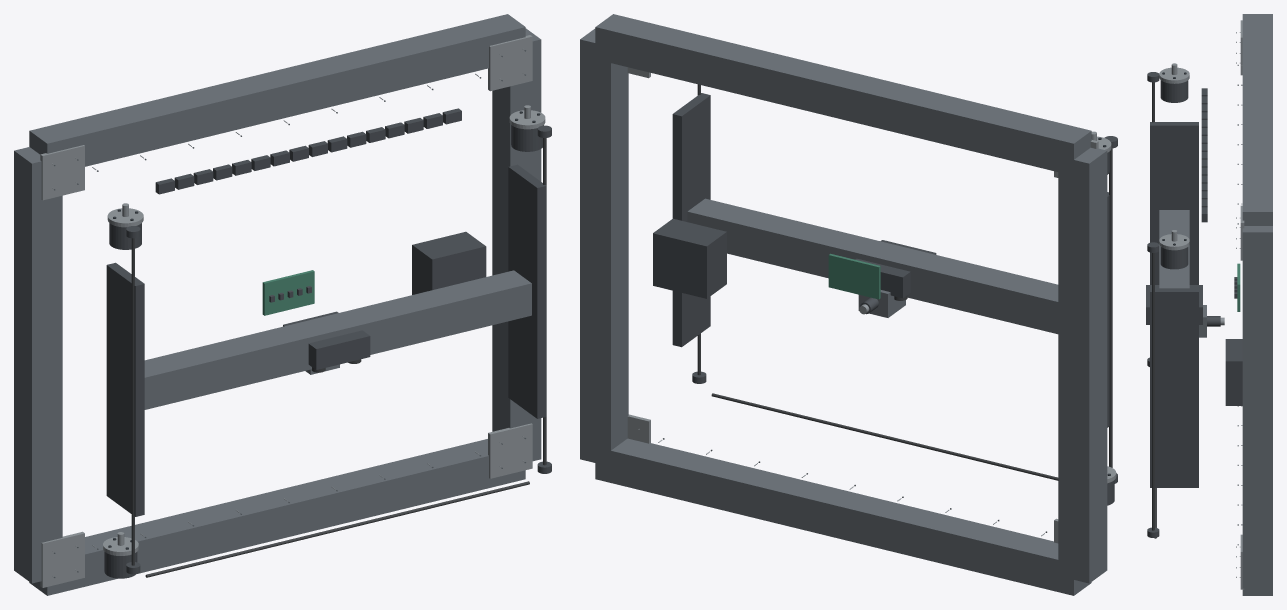
Rendered from laser-diode-10w.glb.
3 renders of one model, left to right at view 1: azimuth 30°, elevation 25°; view 2: azimuth 150°, elevation 25°; view 3: azimuth 270°, elevation 25°, orthographic. The views are drawn at different scales.
Visible parts, largest first — view 1: 0005_Y_aluminum_profile, 0001_Y_aluminum_profile, 0009_X_end_cross_profile, 0069_X_gantry_extrusion, 0073_Gantry_end_plate, 0081_Gantry_end_plate, 0013_X_end_cross_profile, 0126_Controller_cover, 0043_Corner_bracket, 0017_Corner_bracket, 0056_Corner_bracket, 0030_Corner_bracket (+4 smaller); view 2: 0005_Y_aluminum_profile, 0001_Y_aluminum_profile, 0009_X_end_cross_profile, 0013_X_end_cross_profile, 0069_X_gantry_extrusion, 0081_Gantry_end_plate, 0126_Controller_cover, 0120_Laser_driver_PCB, 0102_X_timing_belt, 0089_Y_timing_belt, 0103_Laser_carriage_plate, 0073_Gantry_end_plate; view 3: 0013_X_end_cross_profile, 0081_Gantry_end_plate, 0005_Y_aluminum_profile, 0073_Gantry_end_plate, 0069_X_gantry_extrusion, 0126_Controller_cover, 0092_Y_timing_belt, 0082_Y_stepper_motor_motor_body, 0074_Y_stepper_motor_motor_body, 0075_Y_stepper_motor_front_flange, 0083_Y_stepper_motor_front_flange, 0103_Laser_carriage_plate (+2 smaller).
Part boxes in pixels (box(x1,y1,x2,y2)): 0005_Y_aluminum_profile: box(29, 14, 525, 166); 0001_Y_aluminum_profile: box(29, 439, 525, 595); 0009_X_end_cross_profile: box(14, 147, 62, 583); 0069_X_gantry_extrusion: box(144, 270, 531, 409); 0073_Gantry_end_plate: box(106, 262, 144, 516); 0081_Gantry_end_plate: box(508, 164, 546, 418); 0013_X_end_cross_profile: box(492, 28, 541, 461); 0126_Controller_cover: box(412, 231, 486, 294); 0043_Corner_bracket: box(488, 423, 532, 478); 0017_Corner_bracket: box(40, 531, 84, 587); 0056_Corner_bracket: box(488, 35, 532, 91); 0030_Corner_bracket: box(40, 145, 84, 200); 0005_Y_aluminum_profile: box(595, 14, 1091, 175); 0001_Y_aluminum_profile: box(595, 438, 1091, 595); 0009_X_end_cross_profile: box(1058, 147, 1107, 583); 0013_X_end_cross_profile: box(580, 28, 628, 466); 0069_X_gantry_extrusion: box(687, 198, 1058, 334); 0081_Gantry_end_plate: box(672, 93, 710, 347); 0126_Controller_cover: box(653, 218, 726, 298); 0120_Laser_driver_PCB: box(828, 253, 880, 299); 0102_X_timing_belt: box(711, 393, 1058, 480); 0089_Y_timing_belt: box(1109, 148, 1112, 467); 0103_Laser_carriage_plate: box(855, 240, 936, 298); 0073_Gantry_end_plate: box(1107, 192, 1109, 427); 0013_X_end_cross_profile: box(1242, 226, 1272, 588); 0081_Gantry_end_plate: box(1150, 288, 1198, 487); 0005_Y_aluminum_profile: box(1242, 14, 1272, 225); 0073_Gantry_end_plate: box(1150, 122, 1198, 284); 0069_X_gantry_extrusion: box(1159, 210, 1189, 288); 0126_Controller_cover: box(1225, 339, 1242, 405); 0092_Y_timing_belt: box(1152, 253, 1154, 530); 0082_Y_stepper_motor_motor_body: box(1160, 247, 1188, 269); 0074_Y_stepper_motor_motor_body: box(1160, 80, 1188, 102); 0075_Y_stepper_motor_front_flange: box(1159, 67, 1189, 83); 0083_Y_stepper_motor_front_flange: box(1159, 234, 1189, 250); 0103_Laser_carriage_plate: box(1146, 285, 1202, 324).
Size of the model in its own units: 660 by 560 by 168.
